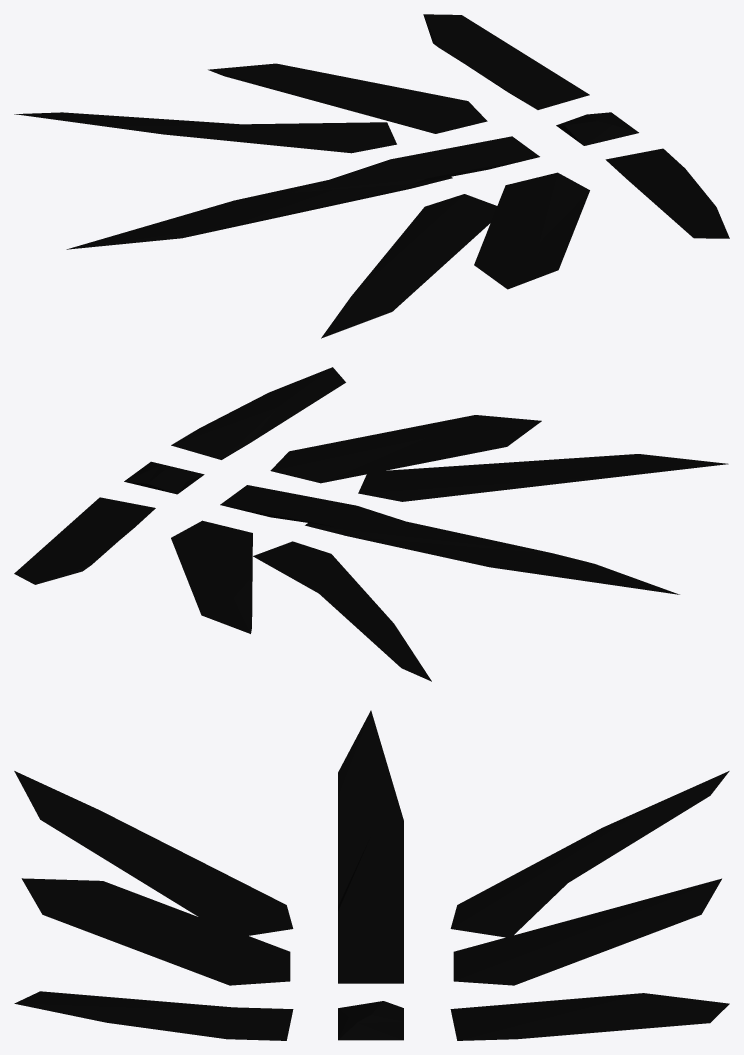
Rendered from thorn01.FBX.
3 views of the same model, one above another, from view 1: azimuth 30°, elevation 25°; view 2: azimuth 150°, elevation 25°; view 3: azimuth 270°, elevation 25° (orthographic). The views are drawn at different scales.
Visible parts, largest first — view 1: thorn01; view 2: thorn01; view 3: thorn01.
Part boxes in pixels (left/top/right/bottom): thorn01: left=14, top=14, right=729, bottom=338; thorn01: left=14, top=367, right=728, bottom=681; thorn01: left=14, top=710, right=729, bottom=1040.
Bounding box in the file's own units: 9.82 × 0.1979 × 9.29.
